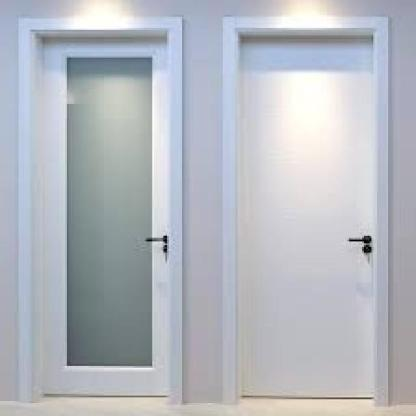door: (12, 15, 190, 406), (221, 14, 392, 412)
